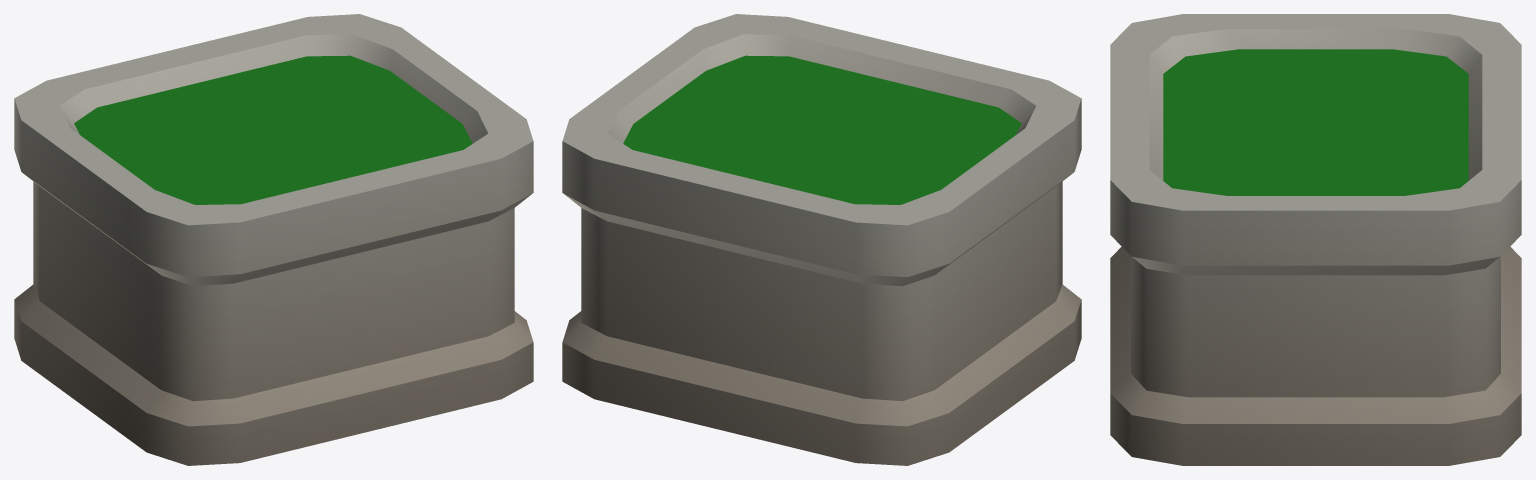
The model's file is FlowerPlacet_5_2_B.glb.
3 views of the same model, side by side, from view 1: azimuth 30°, elevation 25°; view 2: azimuth 150°, elevation 25°; view 3: azimuth 270°, elevation 25° (orthographic). The views are drawn at different scales.
Parts seen in each view (by area): view 1: FlowerPlacet_5_2_B; view 2: FlowerPlacet_5_2_B; view 3: FlowerPlacet_5_2_B.
Boxes of the visible parts, x1,y1,x2,y2 form: FlowerPlacet_5_2_B: (14, 14, 533, 465); FlowerPlacet_5_2_B: (562, 14, 1081, 465); FlowerPlacet_5_2_B: (1110, 14, 1521, 465).
Size of the model in its own units: 1.43 by 0.8638 by 1.26.
Materials: 1 (1 with a texture image).
